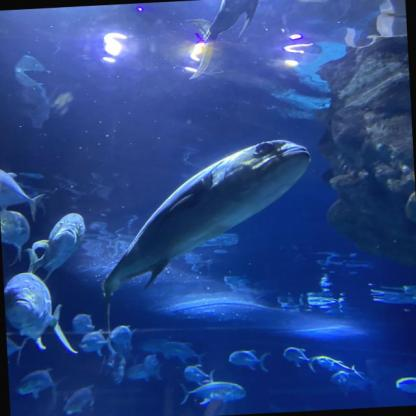fish: (96, 138, 318, 296), (186, 0, 284, 82), (3, 271, 77, 357), (24, 213, 87, 280), (0, 164, 46, 218), (1, 209, 32, 265), (181, 380, 247, 406), (17, 368, 62, 398), (332, 370, 384, 392), (62, 386, 95, 416), (228, 349, 270, 371), (160, 342, 204, 362), (283, 346, 318, 371), (107, 350, 129, 389), (79, 330, 113, 354), (6, 332, 28, 368), (126, 362, 162, 384), (317, 354, 356, 373), (112, 325, 136, 349), (184, 364, 216, 382), (141, 338, 176, 353), (72, 314, 95, 333), (396, 376, 415, 398)
